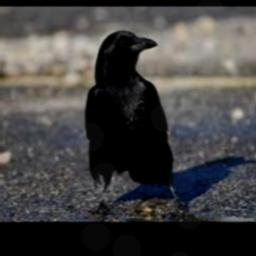Crow: (86, 29, 180, 214)
